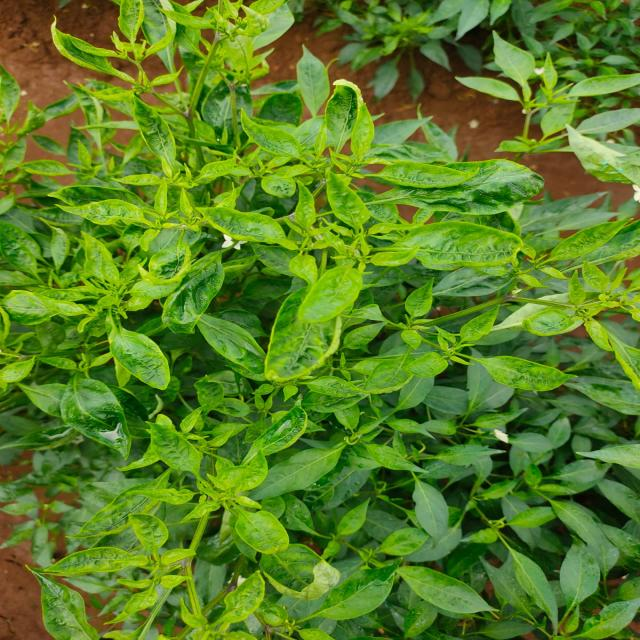Moko: (0, 0, 387, 214), (66, 360, 314, 640), (0, 163, 261, 415), (228, 163, 554, 342), (519, 218, 640, 352)
